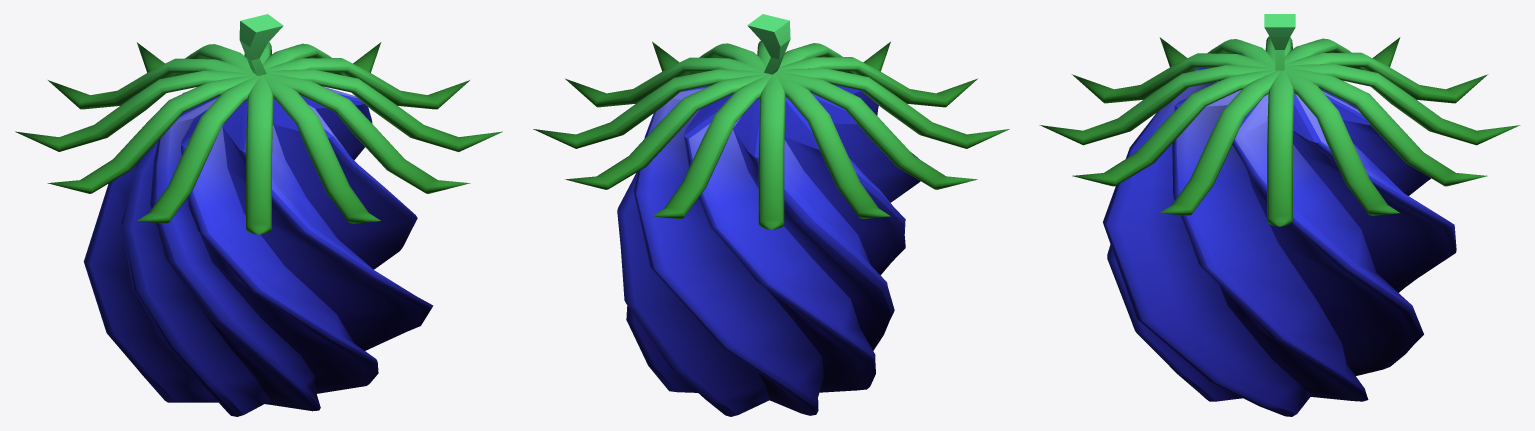
File: Swirly.fbx
The picture shows the model from 3 angles, left to right: view 1: azimuth 30°, elevation 25°; view 2: azimuth 150°, elevation 25°; view 3: azimuth 270°, elevation 25°; orthographic projection. The views are drawn at different scales.
Visible parts, largest first — view 1: Swirly; view 2: Swirly; view 3: Swirly.
Part boxes in pixels (<box>): Swirly: <box>15,14,502,416</box>; Swirly: <box>533,14,1009,416</box>; Swirly: <box>1039,14,1520,416</box>.
Bounding box in the file's own units: 3.72 × 3.15 × 3.72.
